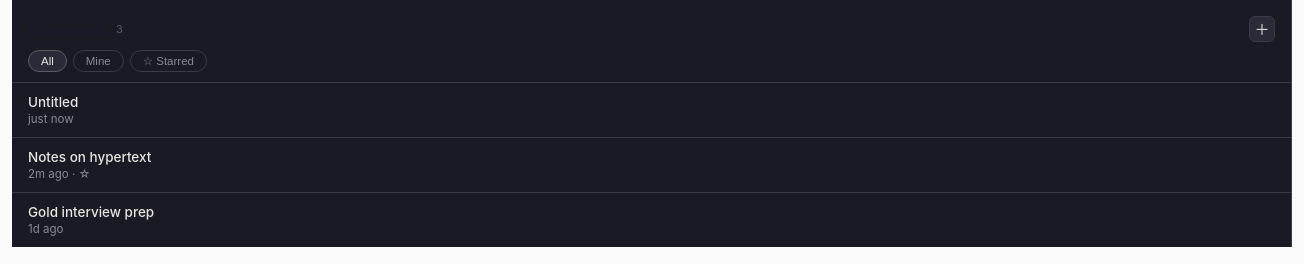
Test: StudioSidebar › filters: Mine (by owner club) and Starred
Click the tab "Mine": (98, 61) [73,50,124,72]
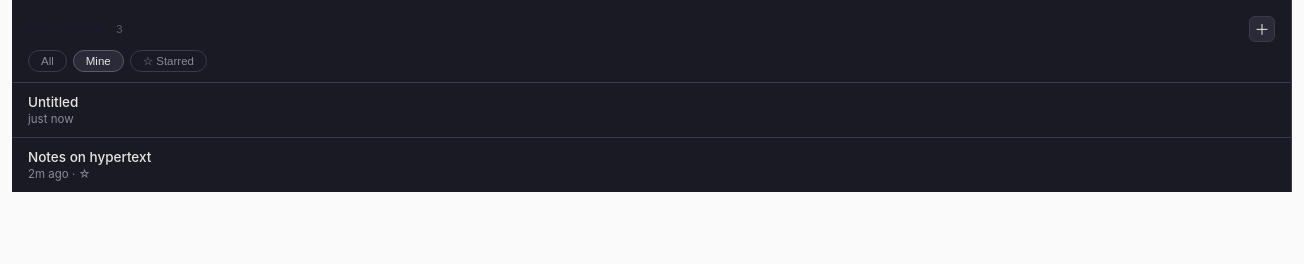
Expected: the text "Notes on hypertext" is shown, [28,149,151,165]
Now the button "Gold interview prep" is gone
Click the tab "☆ Starred": (168, 61) [130,50,207,72]
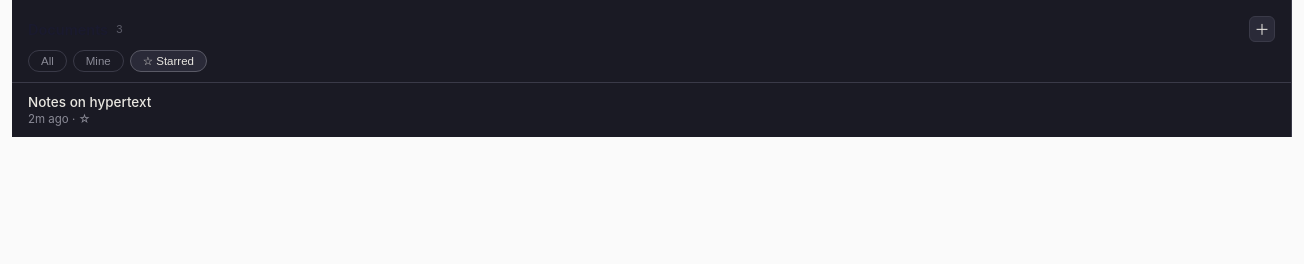
Expected: the button "Gold interview prep" is not shown
Expected: the text "Notes on hypertext" is shown, [28,94,151,110]
Click the tab "All": (47, 61) [28,50,67,72]
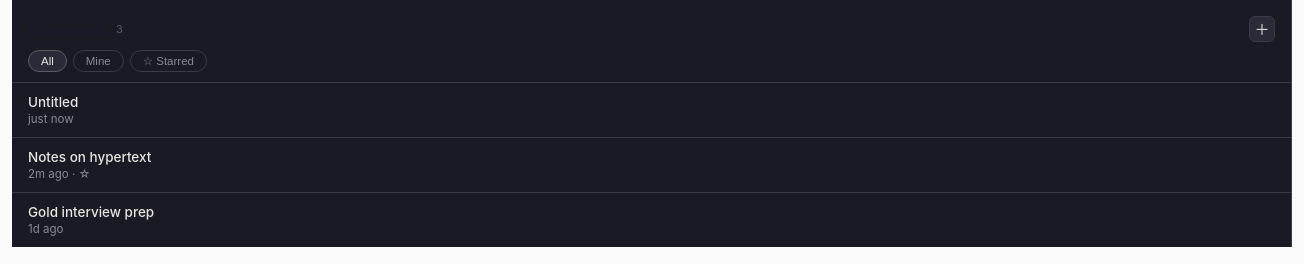
Now the text "Gold interview prep" is shown, box [28,204,154,220]
